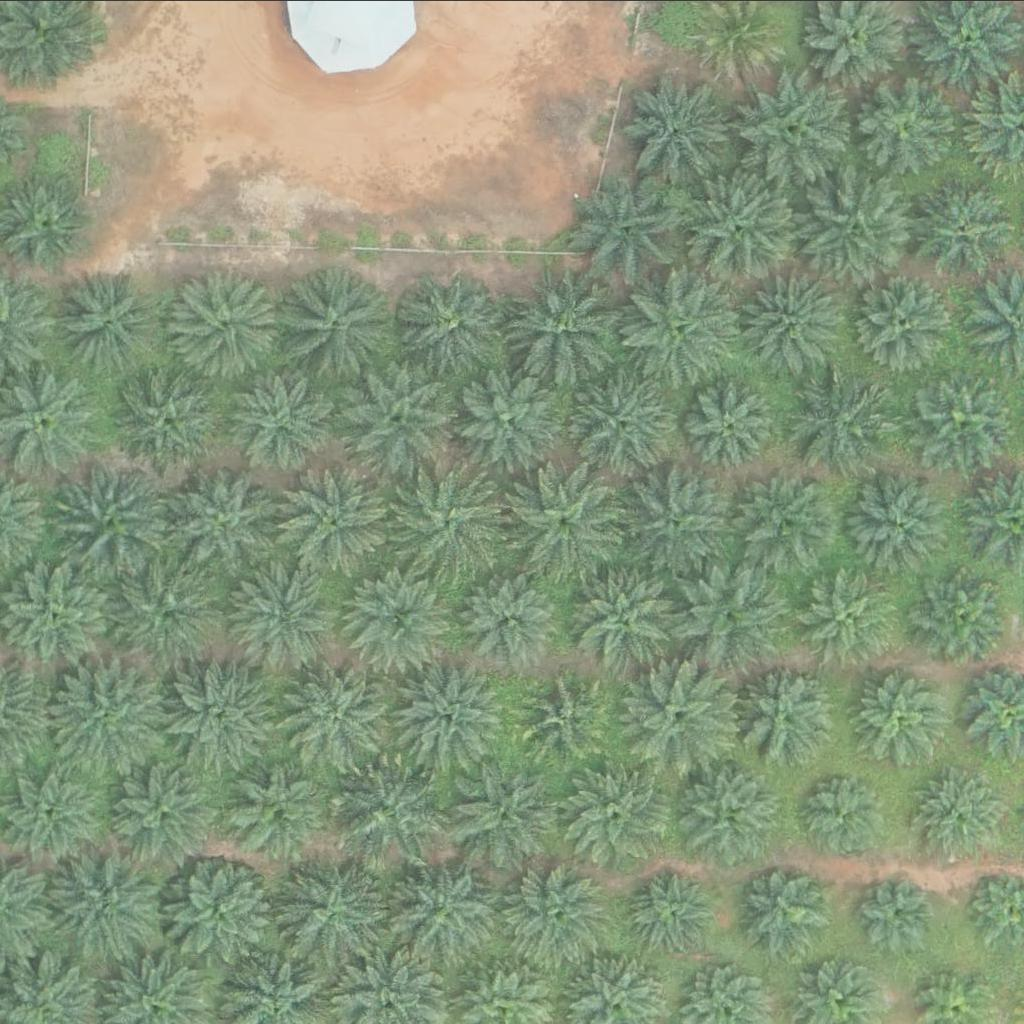Kelapa_Sawit: (54, 655, 168, 768), (110, 556, 224, 669), (225, 555, 339, 668), (621, 67, 735, 180), (737, 69, 851, 182), (572, 169, 686, 282), (167, 659, 280, 772), (285, 652, 398, 765), (344, 559, 457, 672), (110, 366, 223, 479), (49, 263, 162, 376), (172, 263, 285, 376), (284, 268, 397, 381), (511, 464, 624, 577), (616, 465, 729, 578), (565, 562, 678, 675), (388, 853, 501, 966), (165, 463, 279, 575), (282, 464, 396, 576), (343, 361, 457, 473), (678, 170, 792, 282), (511, 267, 625, 379), (49, 847, 162, 959), (161, 853, 274, 965), (274, 858, 387, 970), (104, 754, 217, 866), (334, 757, 447, 869), (58, 463, 171, 575), (391, 469, 504, 581), (803, 173, 916, 285), (625, 270, 738, 382), (570, 366, 683, 478), (672, 557, 785, 669), (621, 659, 734, 771), (560, 760, 673, 872), (455, 364, 568, 476), (388, 660, 501, 772), (447, 756, 560, 868), (227, 757, 328, 857), (919, 177, 1020, 277), (742, 271, 843, 371), (855, 270, 956, 370), (787, 371, 888, 471), (913, 369, 1014, 469), (737, 463, 838, 563), (845, 469, 946, 569), (794, 562, 895, 662), (911, 563, 1012, 663), (736, 664, 837, 764), (852, 665, 953, 765), (680, 761, 781, 861), (502, 864, 603, 964), (5, 762, 105, 862), (230, 370, 330, 470), (403, 271, 503, 371), (859, 76, 959, 176), (1, 177, 90, 265), (522, 673, 611, 761), (689, 382, 777, 469), (796, 771, 884, 858), (908, 769, 996, 856), (626, 872, 714, 959), (745, 866, 833, 953), (465, 573, 553, 660), (860, 878, 936, 953)
